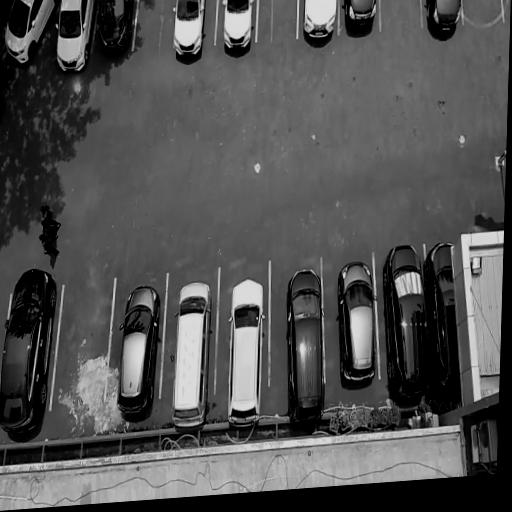Car: (0, 261, 62, 449), (379, 231, 438, 413), (278, 262, 334, 433), (424, 235, 470, 416), (167, 276, 217, 438), (220, 275, 270, 434), (113, 277, 164, 423), (333, 254, 384, 388), (0, 0, 55, 70), (53, 0, 93, 78), (170, 0, 209, 69), (91, 0, 136, 56), (219, 0, 256, 58), (299, 0, 338, 49), (340, 0, 381, 44), (425, 0, 464, 46)
Space Available: (60, 267, 110, 422), (133, 0, 174, 67), (259, 0, 298, 52), (377, 0, 425, 36), (461, 0, 506, 31)
